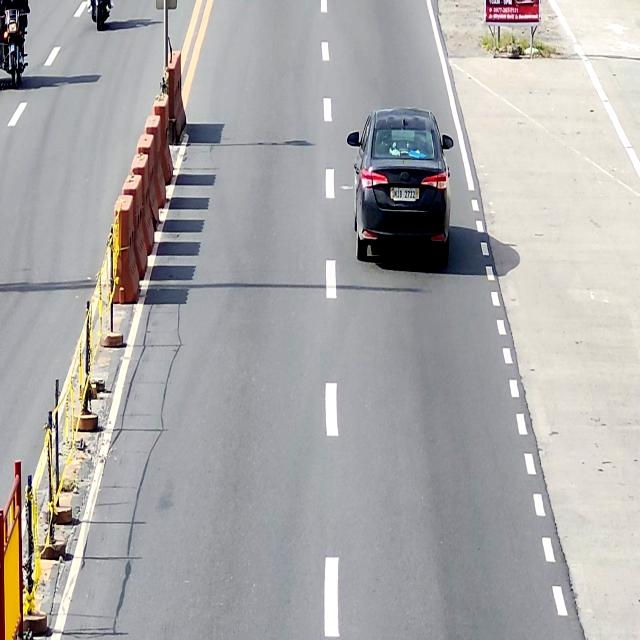Car: (346, 108, 454, 265)
License-Plate: (393, 187, 416, 202)
Motorcycle: (89, 0, 112, 31)
